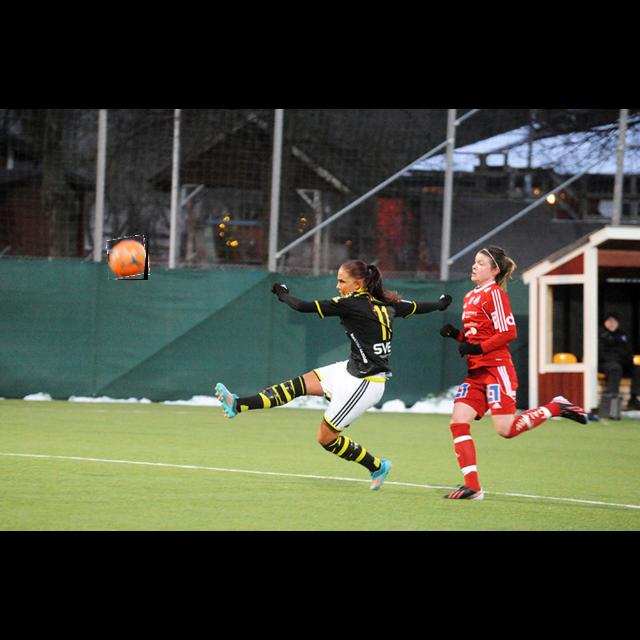Football: (108, 236, 148, 280)
